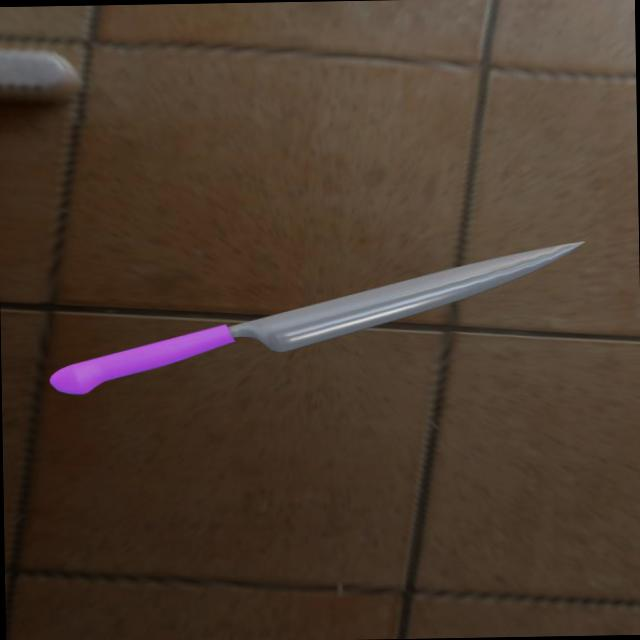knife: (47, 322, 238, 393)
